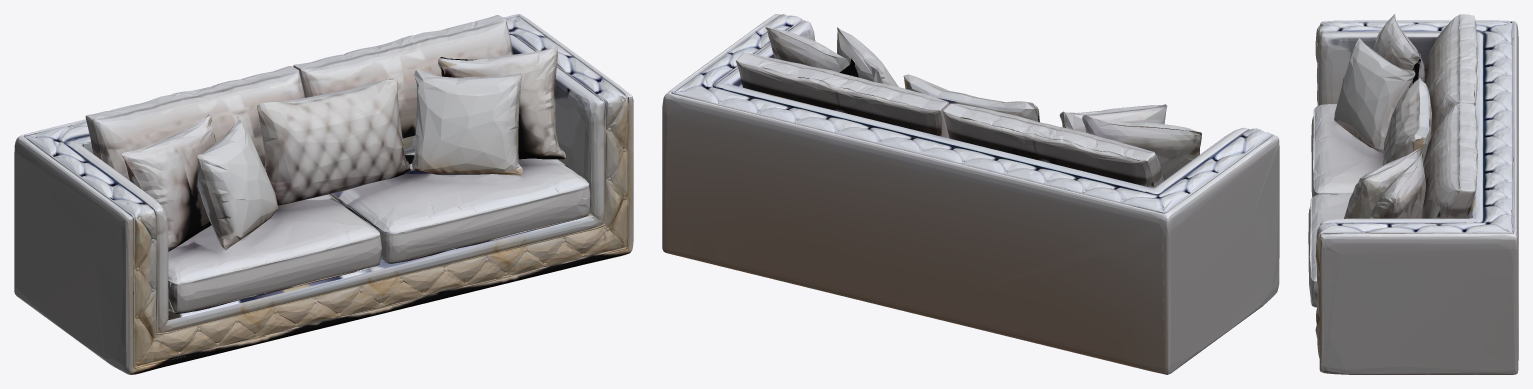
Rendered from edited_mesh.glb.
The picture shows the model from 3 angles, left to right: view 1: azimuth 30°, elevation 25°; view 2: azimuth 150°, elevation 25°; view 3: azimuth 270°, elevation 25°; orthographic projection. The views are drawn at different scales.
Visible parts, largest first — view 1: solid_001_wire; view 2: solid_001_wire; view 3: solid_001_wire.
Part boxes in pixels (left/top/right/bottom): solid_001_wire: left=14, top=14, right=633, bottom=374; solid_001_wire: left=662, top=14, right=1279, bottom=374; solid_001_wire: left=1308, top=14, right=1518, bottom=374.
Bounding box in the file's own units: 2 × 0.7095 × 0.8163.
1 material, 1 textured.
